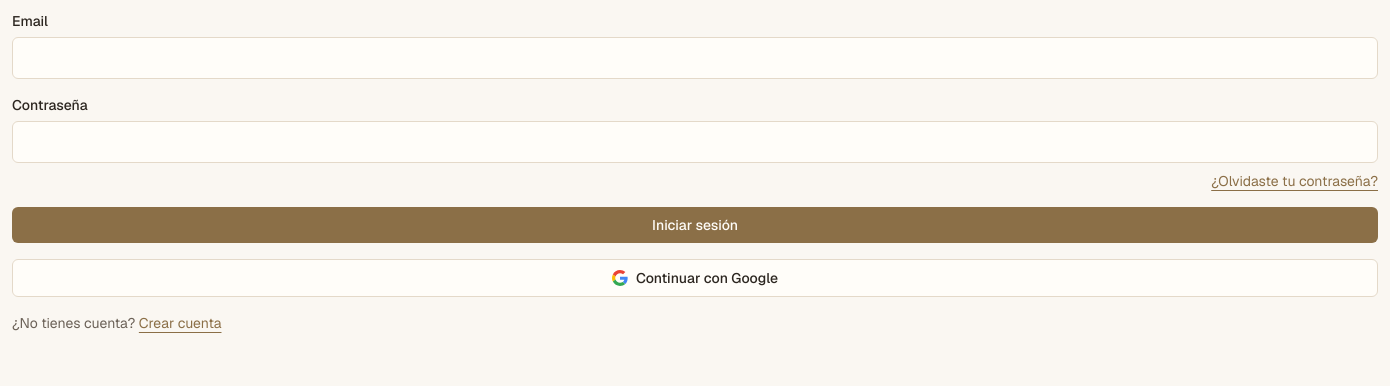
Test: LoginForm › ante_un_429_muestra_un_mensaje_amigable
In the field labelled "Email": {"x": 695, "y": 58} [12,37,1378,79], type "ana@example.com"
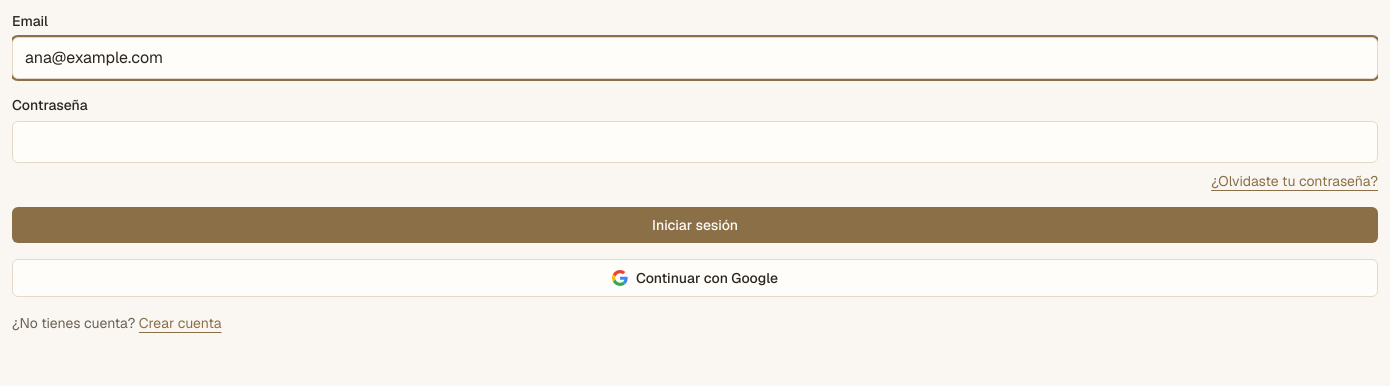
In the password field labelled "Contraseña": {"x": 695, "y": 142} [12,121,1378,163], type "secreto123"
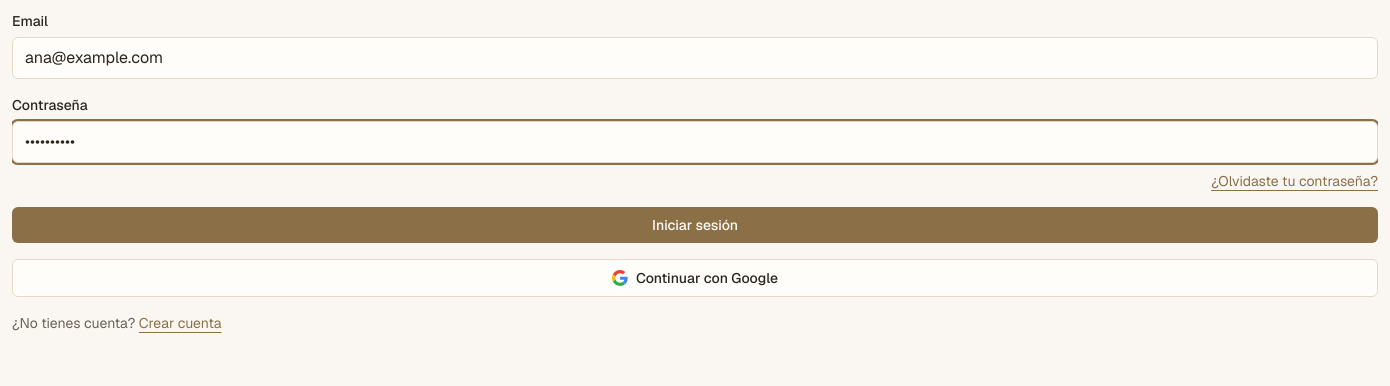
Click the button "Iniciar sesión": {"x": 695, "y": 225} [12,207,1378,243]
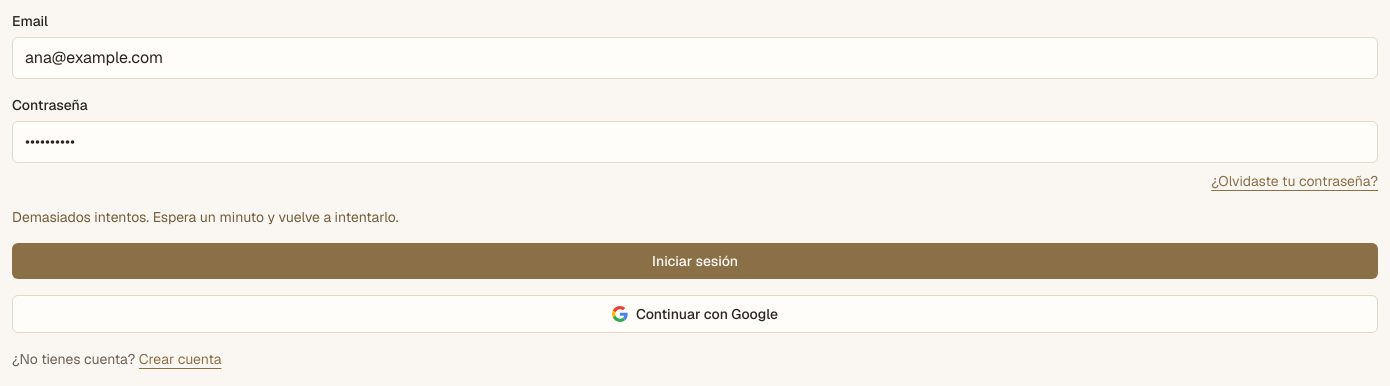
Now the message reads "Demasiados intentos. Espera un minuto y vuelve a intentarlo.", box [12,208,399,226]
